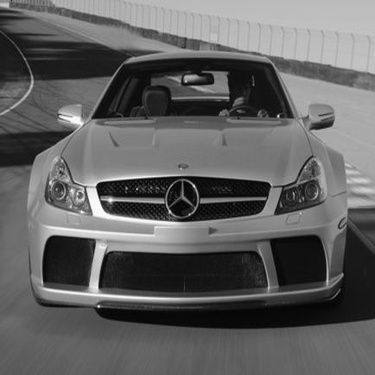car: (18, 37, 355, 318)
